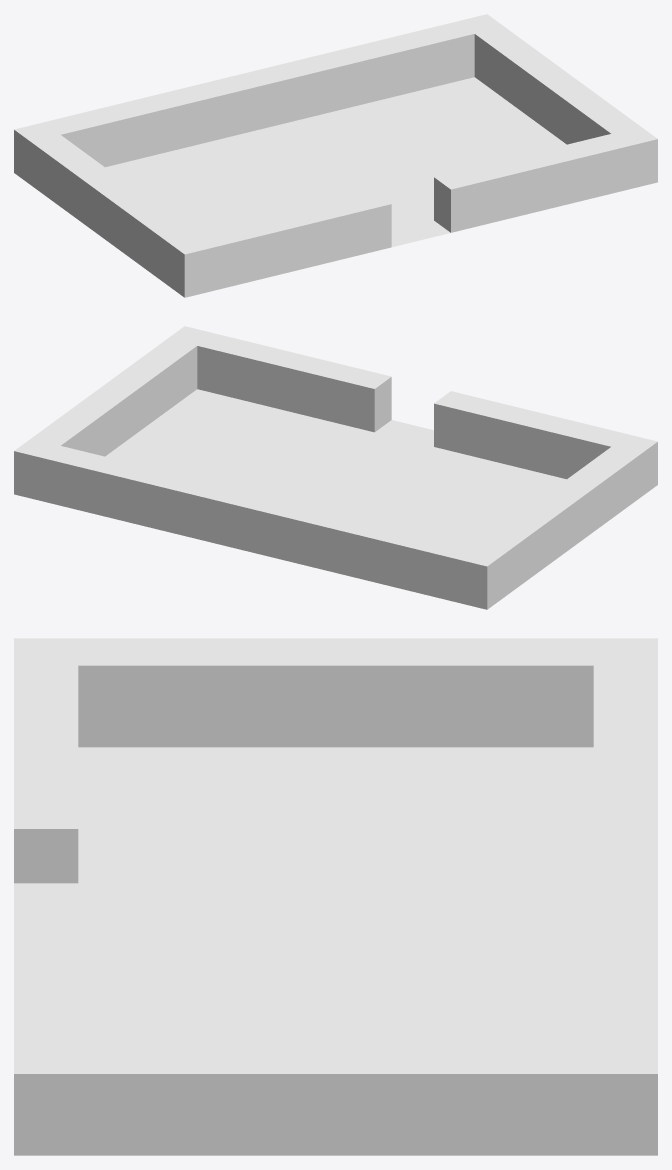
Rendered from roomEnd.obj.
3 views of the same model, one above another, from view 1: azimuth 30°, elevation 25°; view 2: azimuth 150°, elevation 25°; view 3: azimuth 270°, elevation 25° (orthographic). The views are drawn at different scales.
Parts seen in each view (by area): view 1: room; view 2: room; view 3: room.
Part boxes in pixels (x1,y1,x2,y2): room: [14, 14, 657, 297]; room: [14, 326, 657, 609]; room: [14, 638, 657, 1155].
Size of what is drawn, in the model's own units: 80 by 7 by 50.
